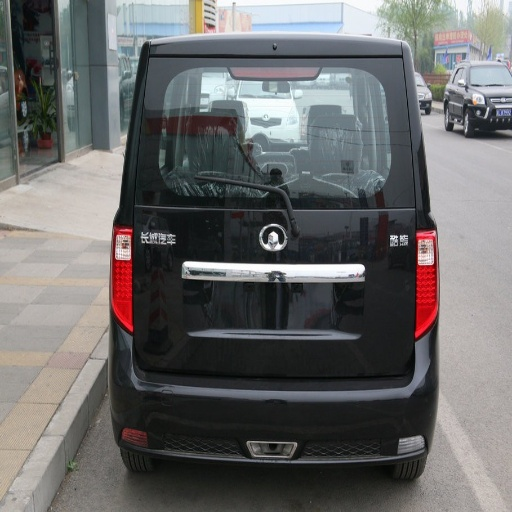back_bumper: (111, 329, 435, 464)
tailgate: (134, 187, 407, 372)
trunk: (290, 194, 416, 339), (143, 190, 281, 288), (317, 63, 407, 158), (137, 348, 338, 377)
